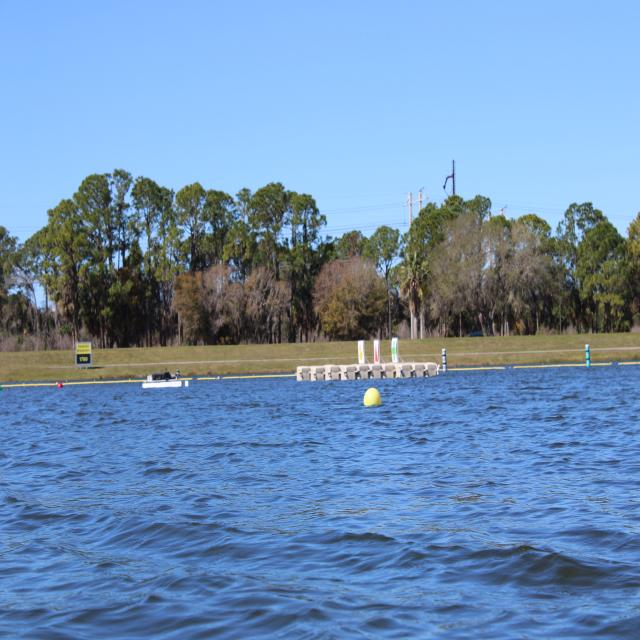yellow-buoy: (363, 385, 380, 405)
